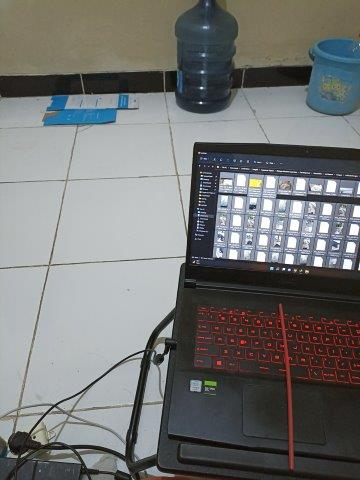sedotan: (278, 303, 295, 469)
